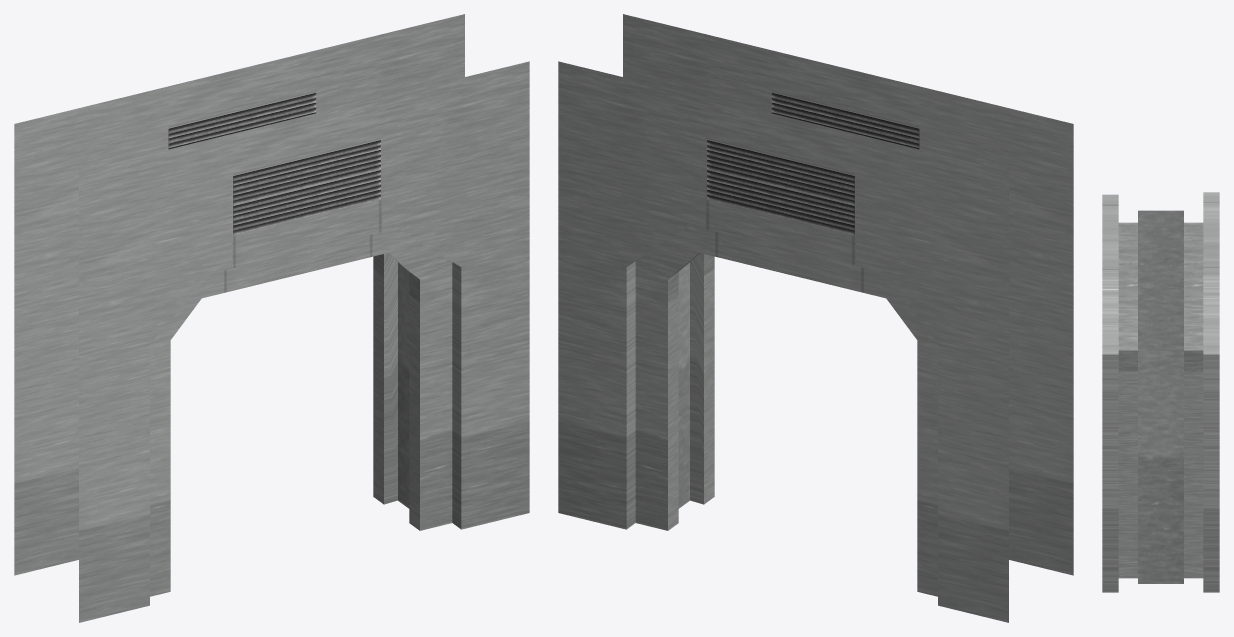
The model's file is machine_door_frame.glb.
The picture shows the model from 3 angles, left to right: view 1: azimuth 30°, elevation 25°; view 2: azimuth 150°, elevation 25°; view 3: azimuth 270°, elevation 25°; orthographic projection. The views are drawn at different scales.
Visible parts, largest first — view 1: machine_frame; view 2: machine_frame; view 3: machine_frame.
Boxes of the visible parts, <box> form: machine_frame: <box>14,14,529,622</box>; machine_frame: <box>558,14,1073,622</box>; machine_frame: <box>1102,192,1219,592</box>.
Size of the model in its own units: 5.14 by 4.92 by 1.28.
Materials: 1 (1 with a texture image).
